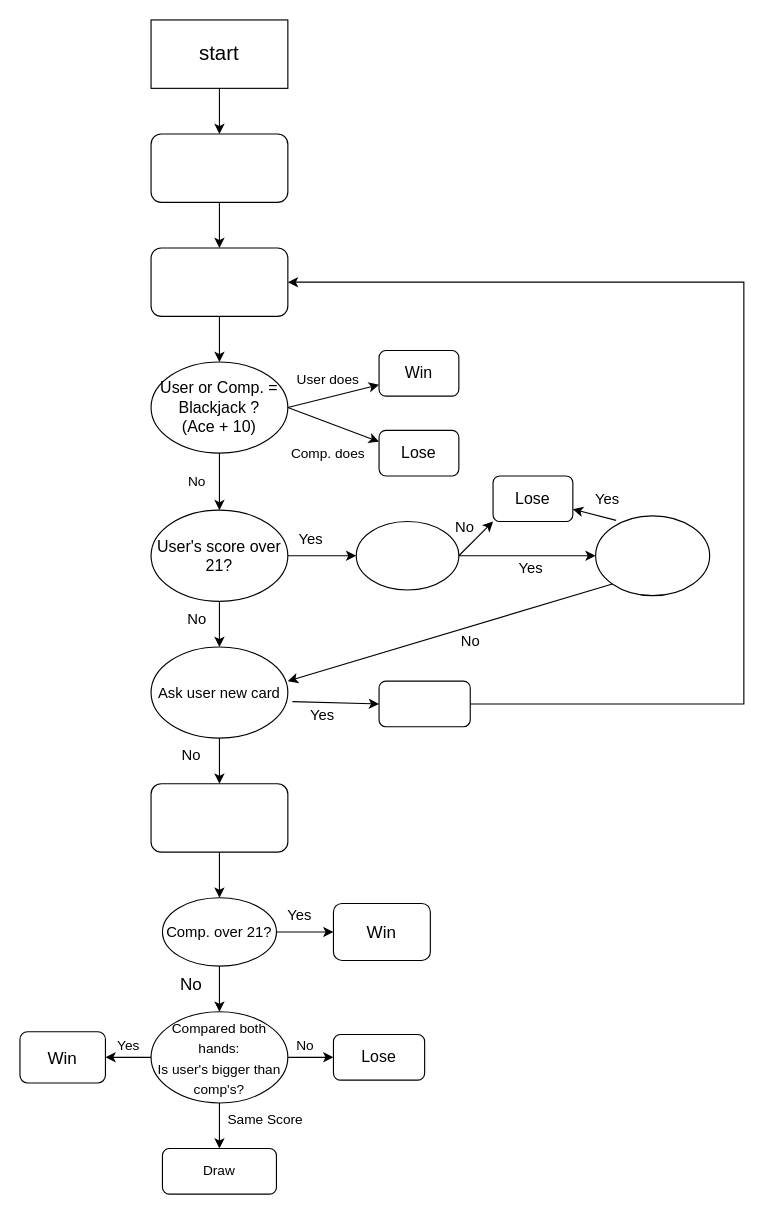
Image size: 773x1214. Some labels were removed from this diagram. The shapes that lost their labels are listed below. From the top down, each one's centre as x and y in pixels, then its label:
At point (219, 167): "User + Computer 2 cards each".
At point (219, 281): "Count sums both hands".
At point (407, 555): "User has ace?".
At point (652, 555): "If ace counts 1, still over 21?".
At point (424, 703): "Draw another card".
At point (219, 817): "Comp. keeps drawing cards, unless it gets over 17".
